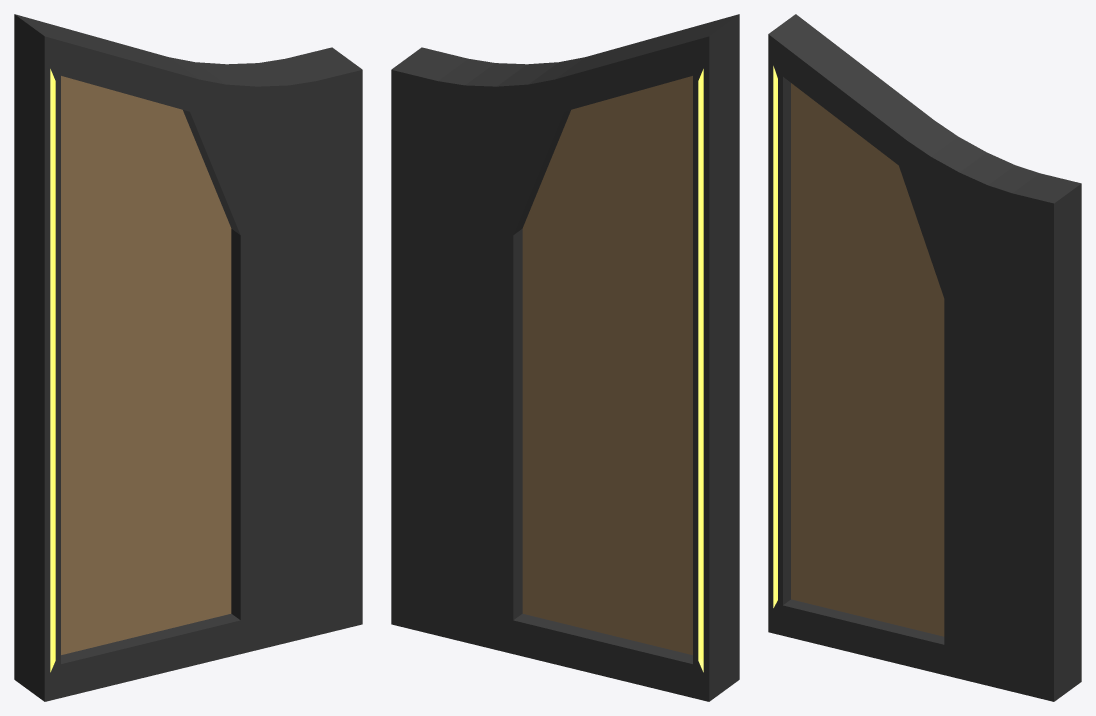
The model's file is GlyphRaider_Gate.glb.
3 renders of one model, left to right at view 1: azimuth 30°, elevation 25°; view 2: azimuth 150°, elevation 25°; view 3: azimuth 330°, elevation 25°, orthographic. The views are drawn at different scales.
Visible parts, largest first — view 1: Gate-col; view 2: Gate-col; view 3: Gate-col.
Boxes of the visible parts, box(x1,y1,x2,y2) form: Gate-col: box(14, 14, 362, 701); Gate-col: box(391, 14, 739, 701); Gate-col: box(768, 14, 1081, 701).
Size of the model in its own units: 6 by 12 by 1.
